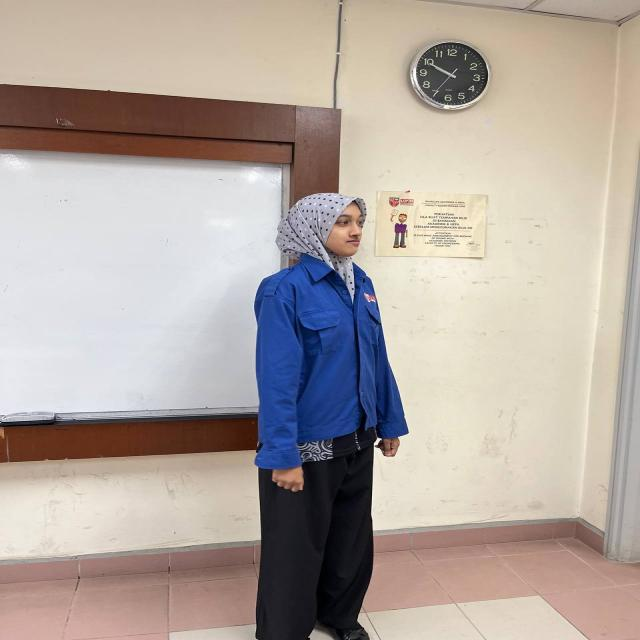person_with_labcoat: (255, 192, 407, 640)
